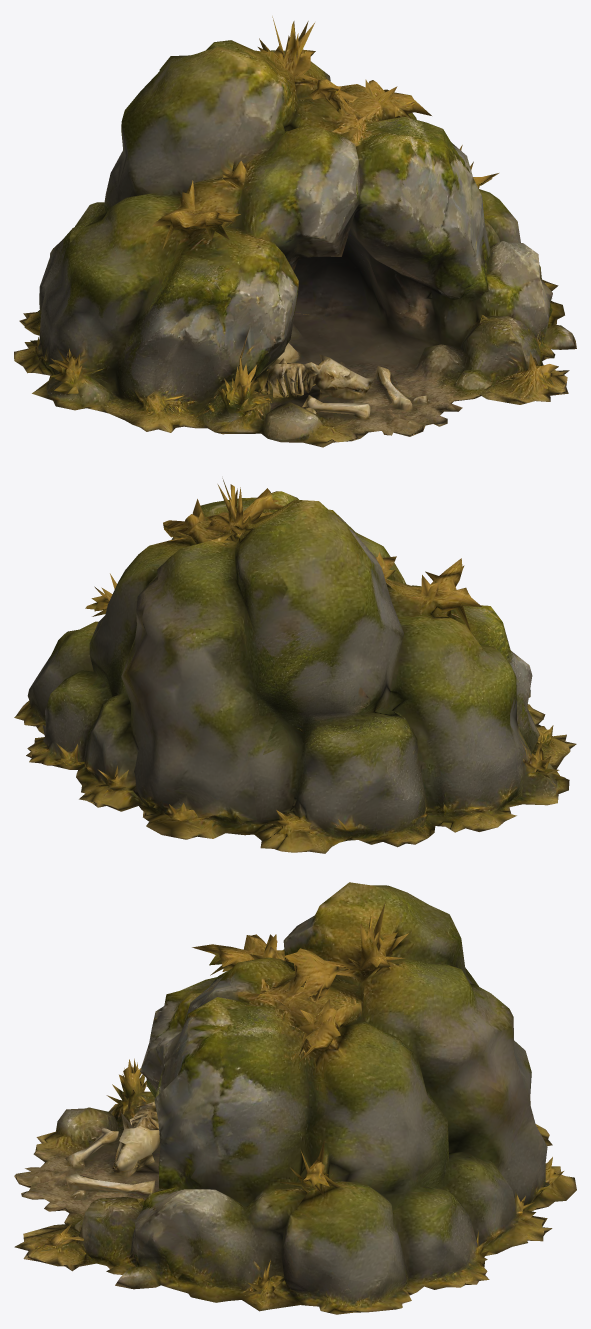
The model's file is WolfDen.fbx.
3 renders of one model, top to bottom at view 1: azimuth 30°, elevation 25°; view 2: azimuth 150°, elevation 25°; view 3: azimuth 270°, elevation 25°, orthographic. The views are drawn at different scales.
Visible parts, largest first — view 1: WolfDen_Body; view 2: WolfDen_Body; view 3: WolfDen_Body.
Boxes of the visible parts, <box> form: WolfDen_Body: <box>14,16,576,447</box>; WolfDen_Body: <box>14,478,576,853</box>; WolfDen_Body: <box>14,882,576,1314</box>.
Bounding box in the file's own units: 1.89 × 1 × 1.72.
Materials: 1 (1 with a texture image).
